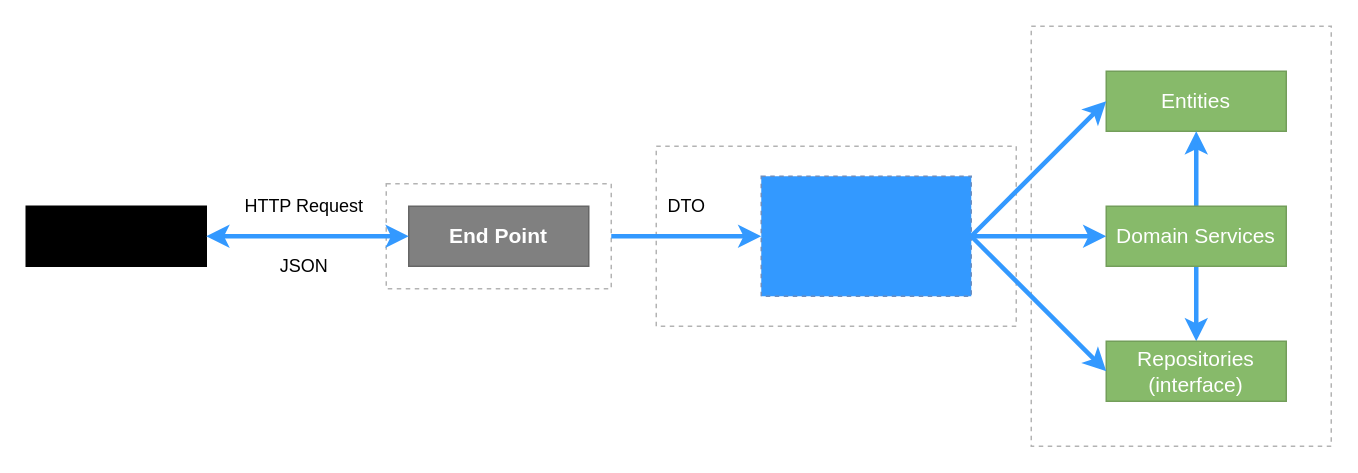
This 1358x473 diagram has some shape labels left out. Here are the shapes that lost their labels. From the top down, the centre of each, then its label:
At point 115,235: "Client".
At point 865,235: "Application Services".
